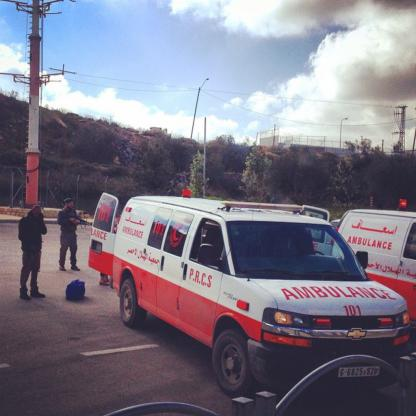Ambulance: (87, 188, 411, 394), (330, 200, 416, 322)
